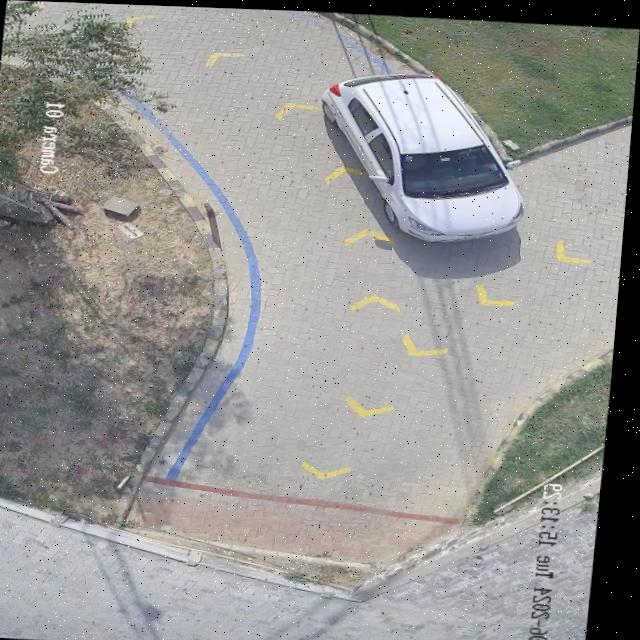car: (321, 70, 528, 239)
